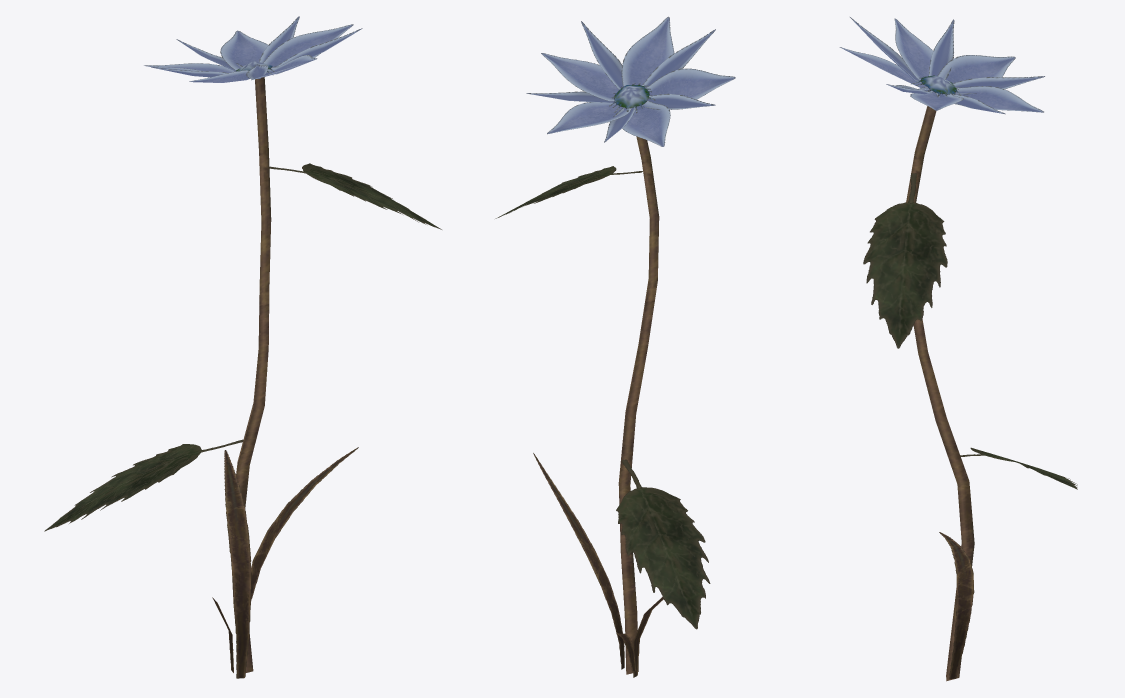
File: SM_flower_02.fbx
3 renders of one model, left to right at view 1: azimuth 30°, elevation 25°; view 2: azimuth 150°, elevation 25°; view 3: azimuth 270°, elevation 25°, orthographic. The views are drawn at different scales.
Visible parts, largest first — view 1: SM_flower_02; view 2: SM_flower_02; view 3: SM_flower_02.
Part boxes in pixels (box(x1,y1,x2,y2)): SM_flower_02: box(44, 16, 441, 678); SM_flower_02: box(495, 16, 735, 677); SM_flower_02: box(839, 17, 1077, 681).
Bounding box in the file's own units: 33.19 × 20.55 × 53.83.
